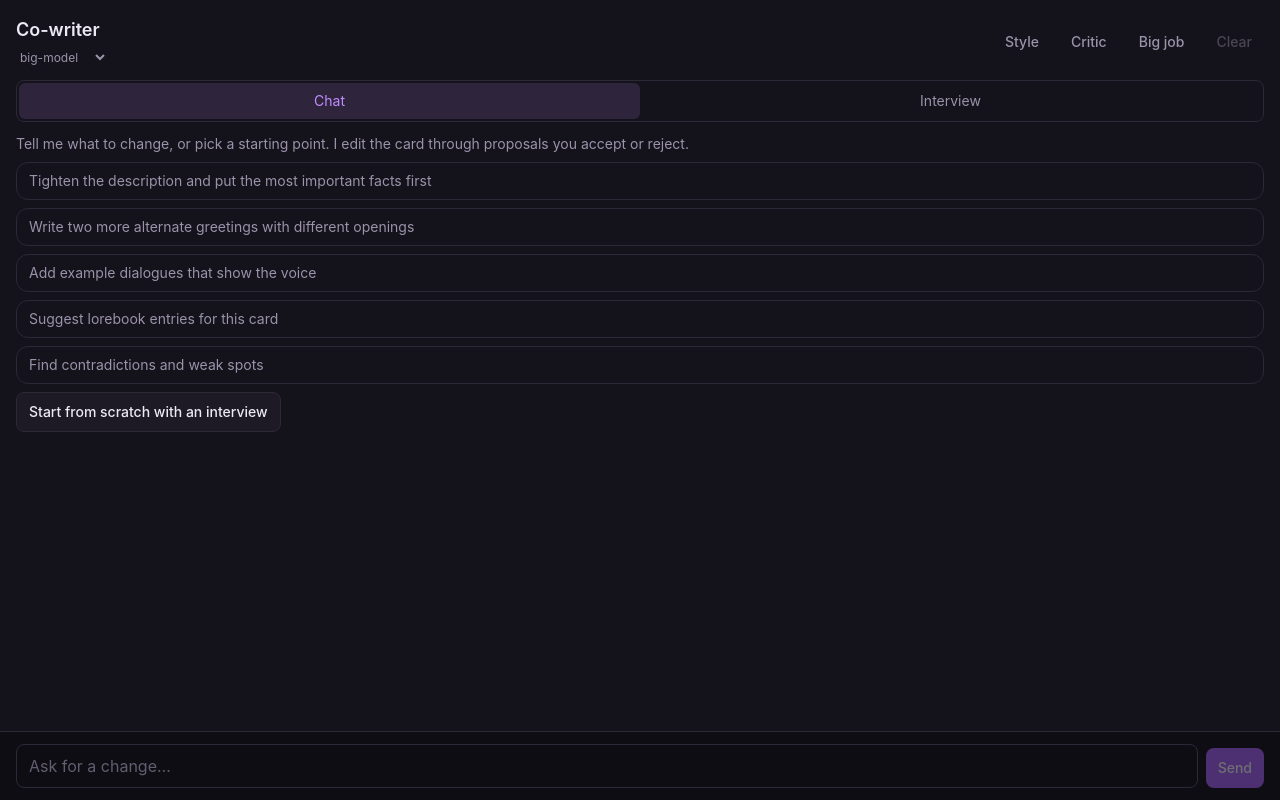
Test case: co-writer › sends a pitch back when the user uses it
Type "Ideas?" into the text box named "Message to the co-writer".
click(607, 766); type("Ideas?")  # box [16,744,1198,788]
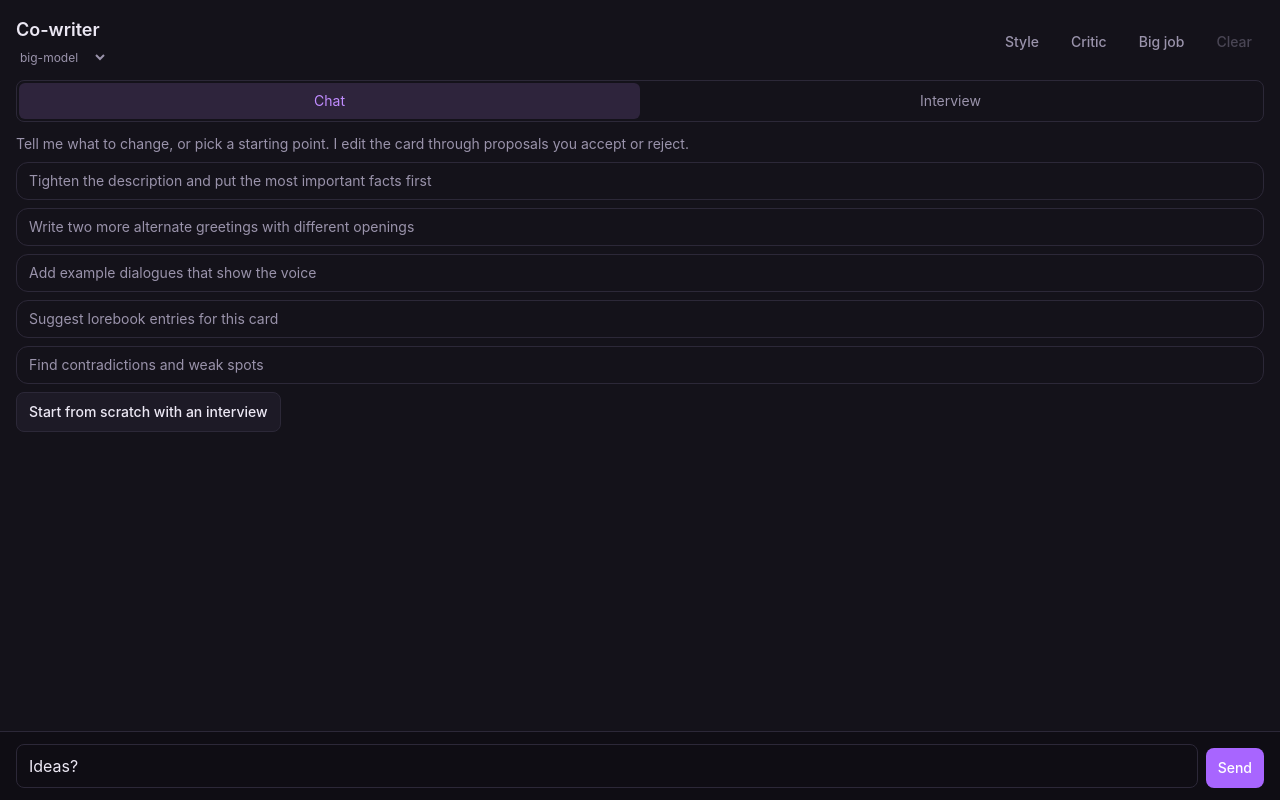
Click the button "Send".
click(1235, 768)  # box [1206,748,1264,788]
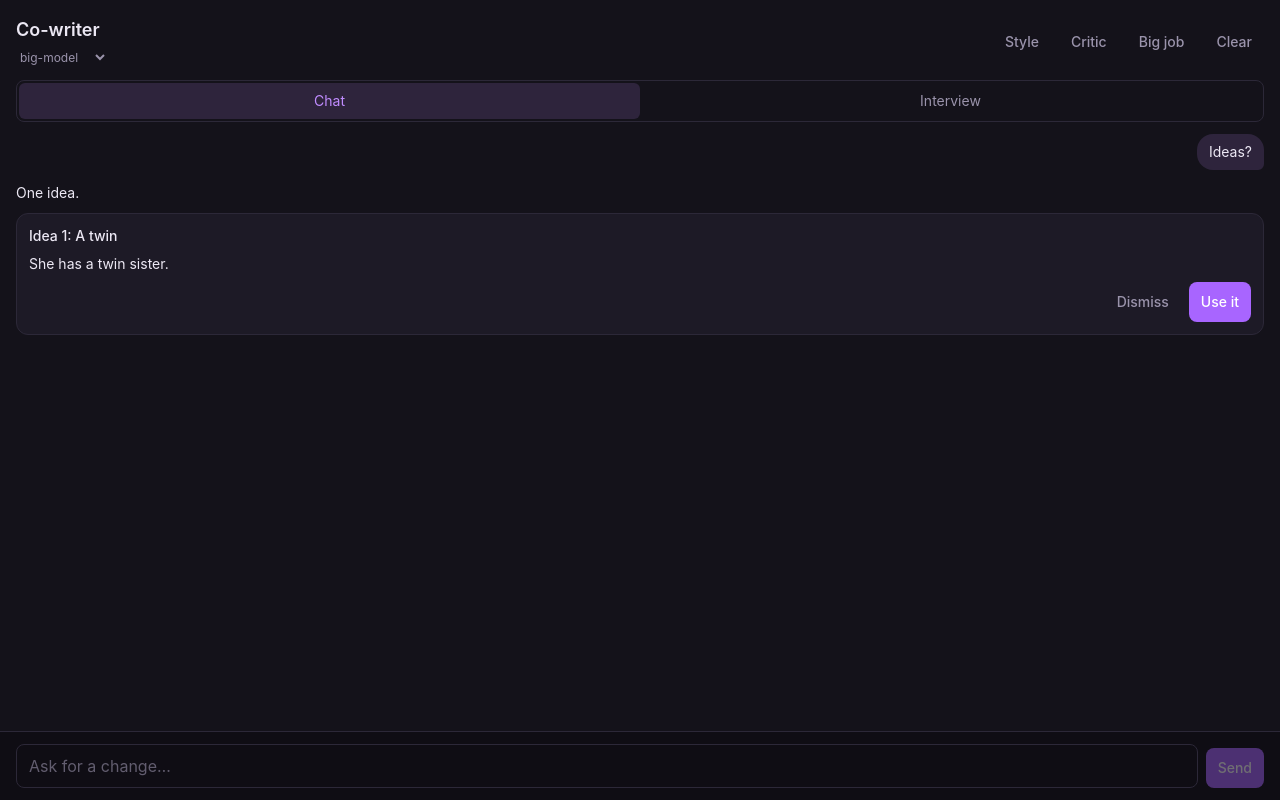
Click the button "Use it".
click(1220, 302)  # box [1189,282,1251,322]
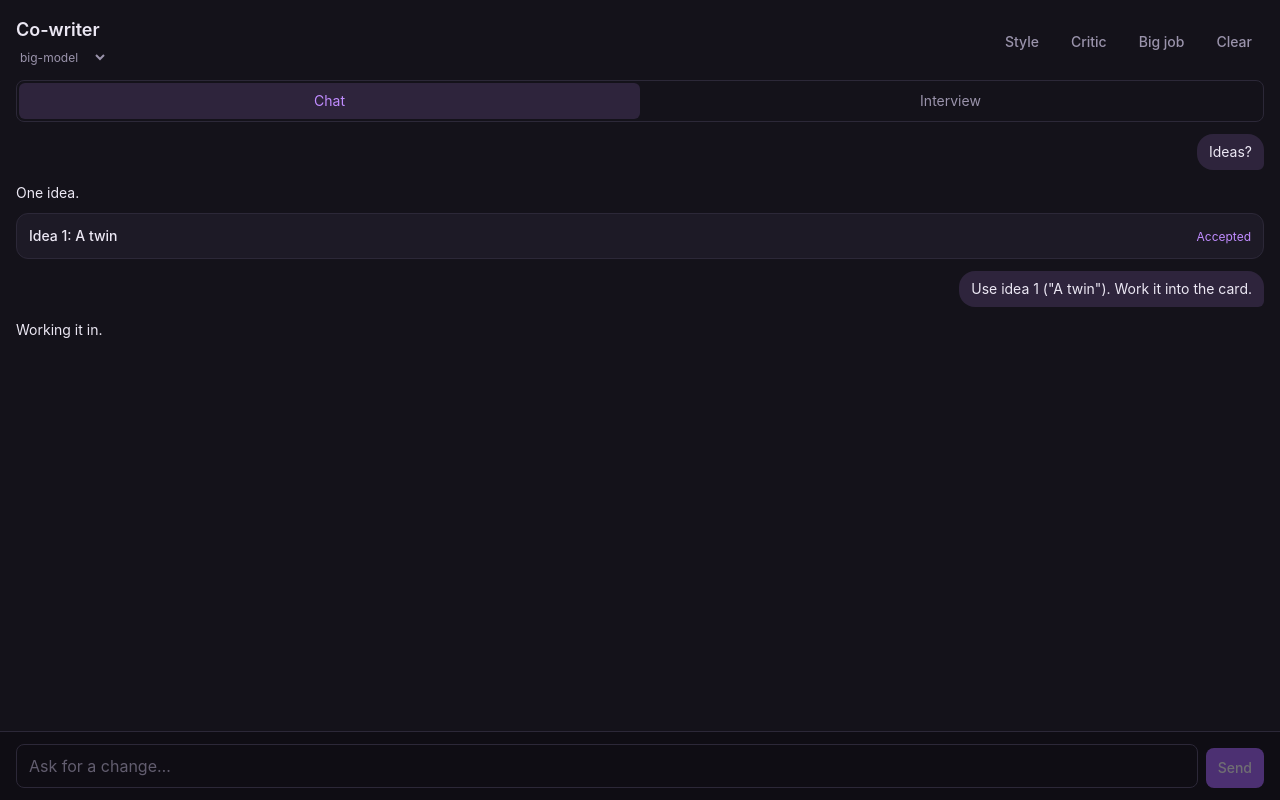
Expected: the text "Working it in." is shown, [16,321,102,338]
